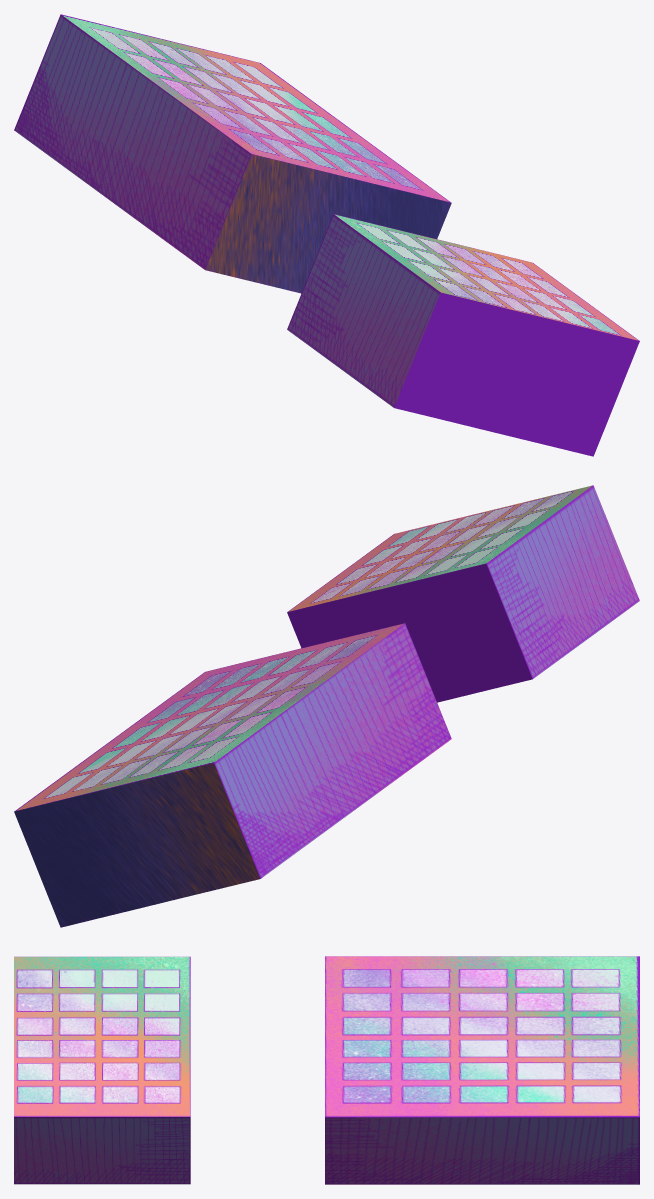
File: Build_C_all.obj
The picture shows the model from 3 angles, top to bottom: view 1: azimuth 30°, elevation 25°; view 2: azimuth 150°, elevation 25°; view 3: azimuth 270°, elevation 25°; orthographic projection. The views are drawn at different scales.
Visible parts, largest first — view 1: Build_C_Top, Build_C_Bot; view 2: Build_C_Top, Build_C_Bot; view 3: Build_C_Top, Build_C_Bot.
Boxes of the visible parts, <box> form: Build_C_Top: <box>14,14,451,293</box>; Build_C_Bot: <box>287,214,639,456</box>; Build_C_Top: <box>14,623,451,927</box>; Build_C_Bot: <box>287,485,639,702</box>; Build_C_Top: <box>325,956,639,1184</box>; Build_C_Bot: <box>14,956,190,1184</box>.
Size of the model in its own units: 0.2862 by 0.2242 by 0.7629.
1 material, 1 textured.
